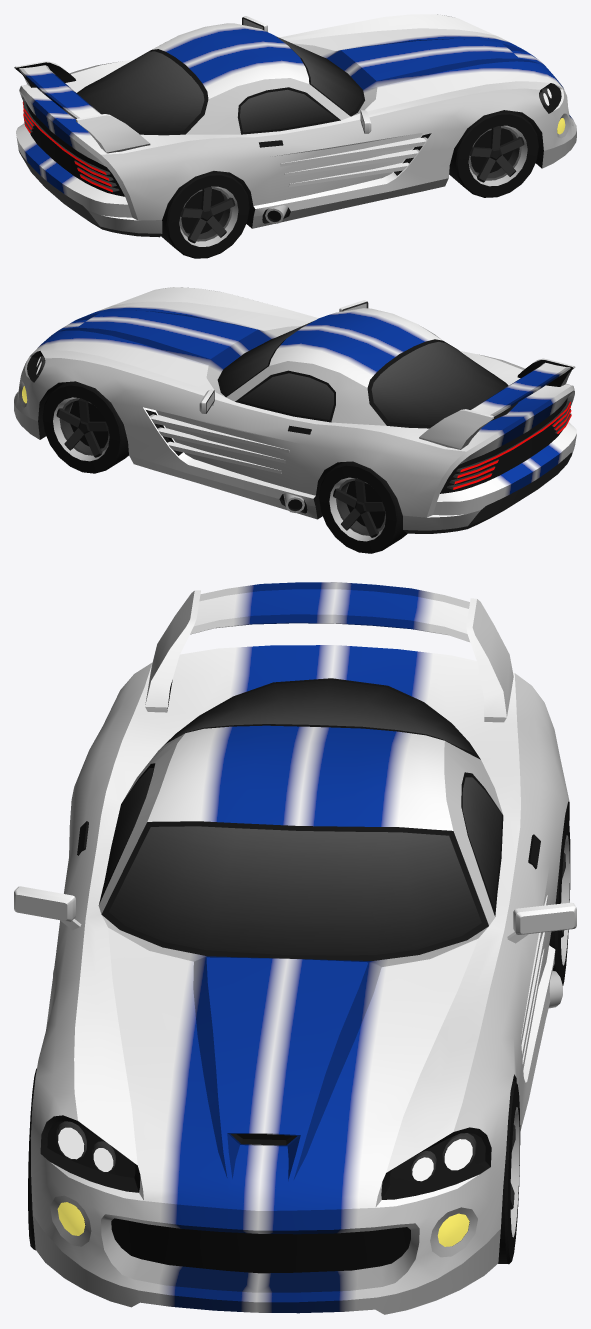
File: Car_169.glb
3 renders of one model, top to bottom at view 1: azimuth 30°, elevation 25°; view 2: azimuth 150°, elevation 25°; view 3: azimuth 270°, elevation 25°, orthographic. The views are drawn at different scales.
Parts seen in each view (by area): view 1: Car_169, wheel_1_Car_169_Wheel_2R, wheel_3_Car_169_Wheel_4R; view 2: Car_169, wheel_0_Car_169_Wheel_1L, wheel_2_Car_169_Wheel_3L; view 3: Car_169, wheel_0_Car_169_Wheel_1L, wheel_2_Car_169_Wheel_3L.
Part boxes in pixels (x1,y1,x2,y2): Car_169: (14,14,576,237); wheel_1_Car_169_Wheel_2R: (449,110,538,197); wheel_3_Car_169_Wheel_4R: (161,171,249,258); Car_169: (14,287,576,533); wheel_0_Car_169_Wheel_1L: (42,381,128,473); wheel_2_Car_169_Wheel_3L: (319,461,407,553); Car_169: (14,582,576,1314); wheel_0_Car_169_Wheel_1L: (498,1080,520,1264); wheel_2_Car_169_Wheel_3L: (549,810,570,985).
Bounding box in the file's own units: 4.38 × 1.24 × 2.15.
Materials: 2 (2 with a texture image).
